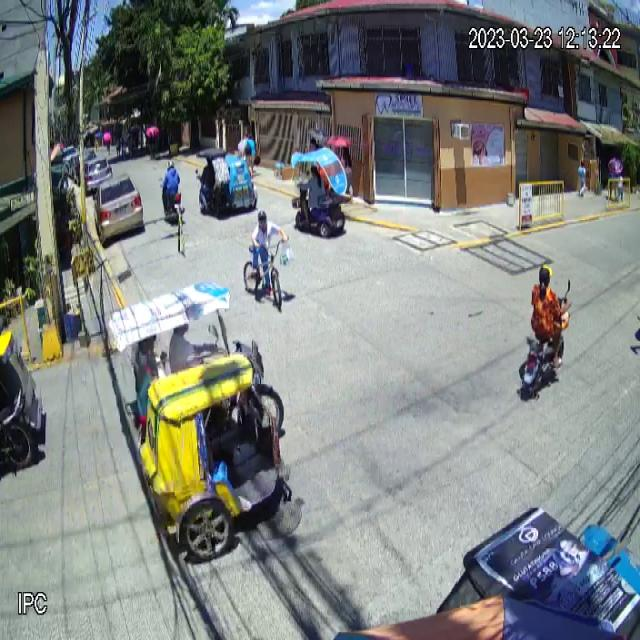Car: (93, 174, 144, 243)
Tricycle: (106, 281, 284, 561)
